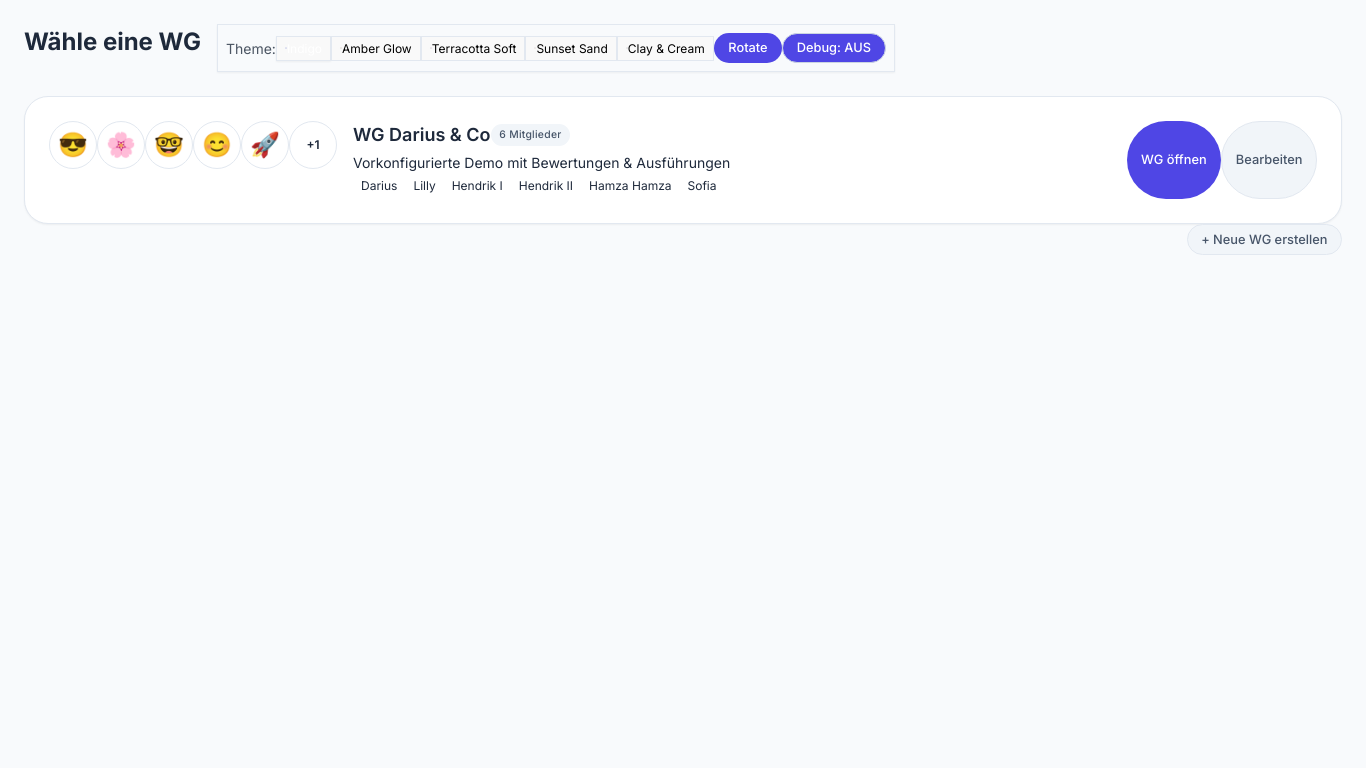
Scenario: WG Persistence & Profile Overview Integrity › behält WG Karten nach Zurückkehren zur Profilübersicht
Click the button named "WG öffnen": coordinates (683, 160) [24, 96, 1342, 224]
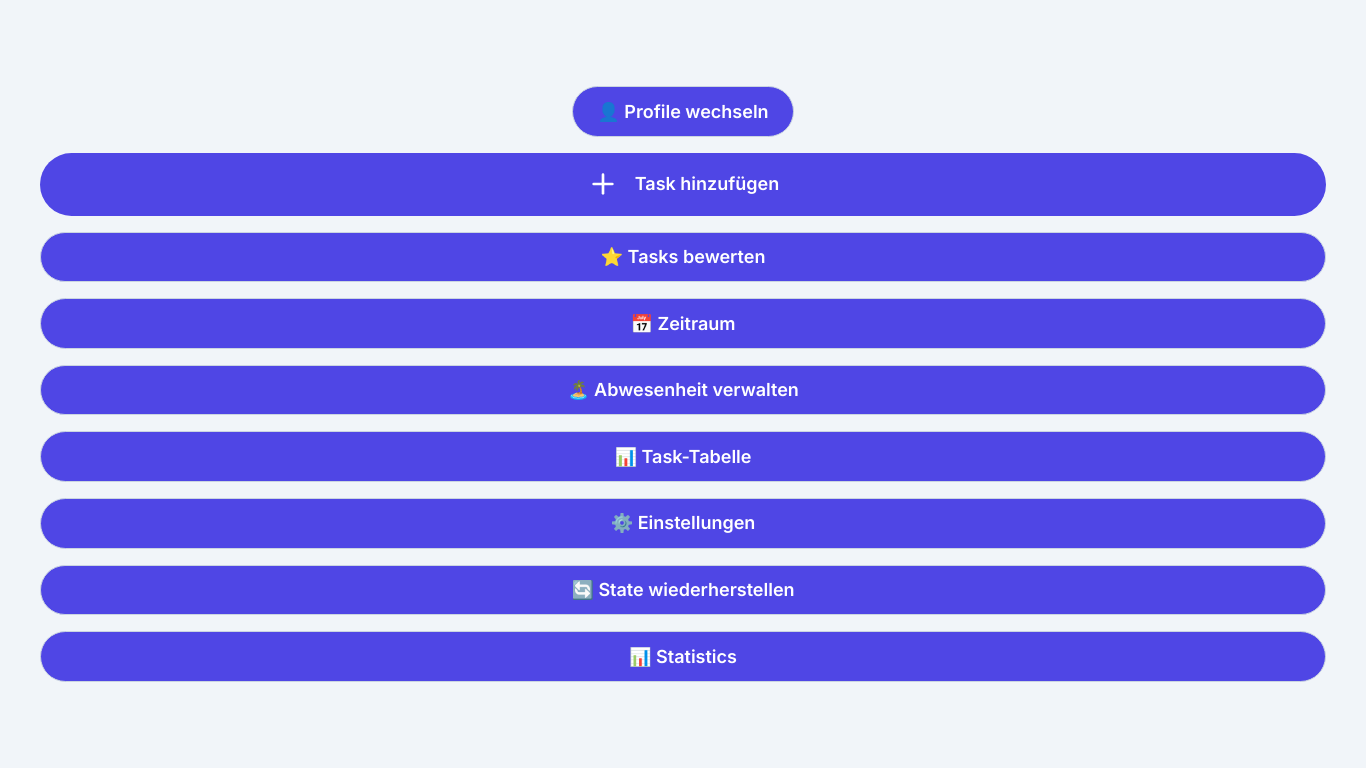
Expected: the button with test id "add-task-btn" is shown, [40, 153, 1326, 216]
Click the button "👤 Profile wechseln": coordinates (683, 112) [572, 86, 794, 137]
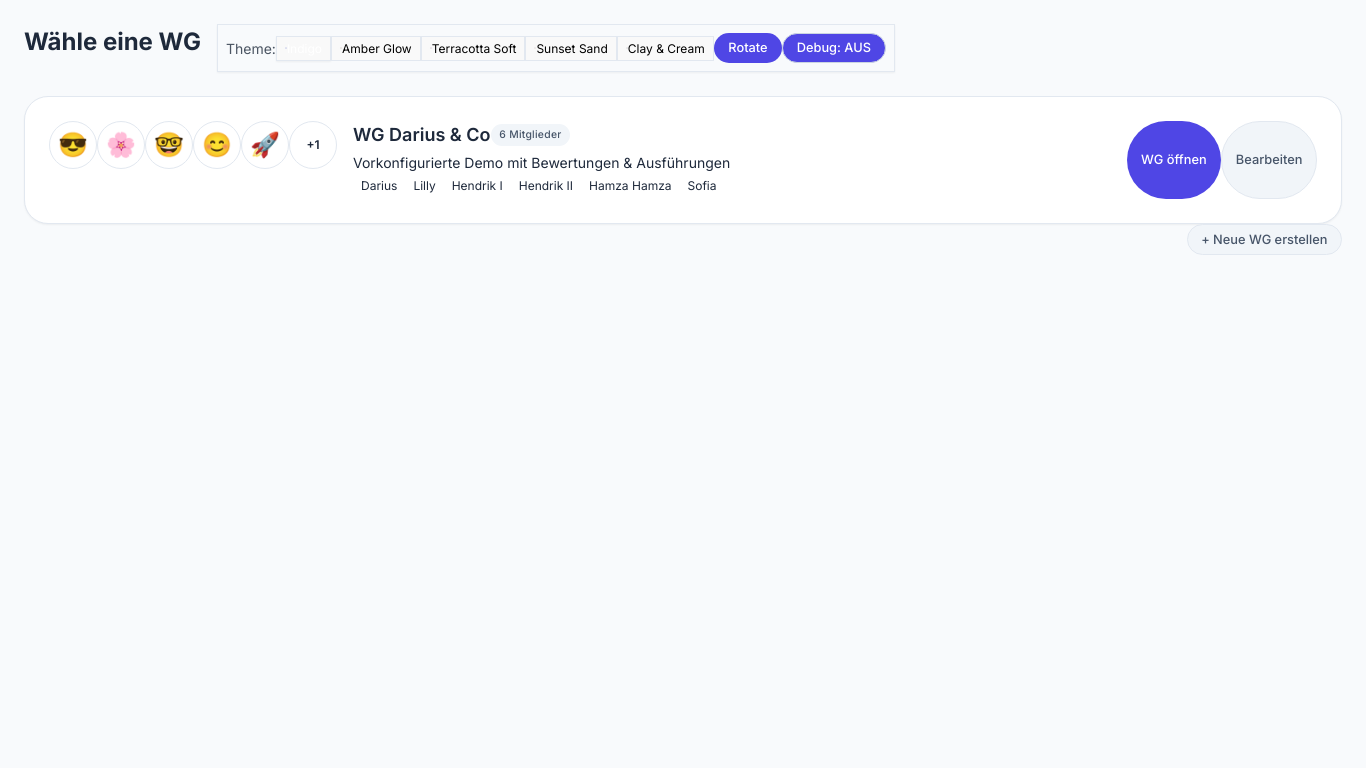
Expected: the button named "WG öffnen" is shown, [24, 96, 1342, 224]
